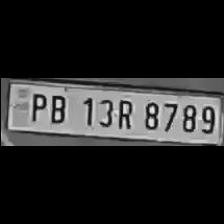1: (75, 93, 95, 126)
3: (95, 94, 113, 128)
7: (160, 100, 178, 132)
8: (138, 98, 160, 130), (178, 101, 196, 133)
9: (198, 102, 216, 134)
B: (44, 90, 68, 124)
P: (26, 90, 46, 122)
R: (113, 96, 136, 130)
